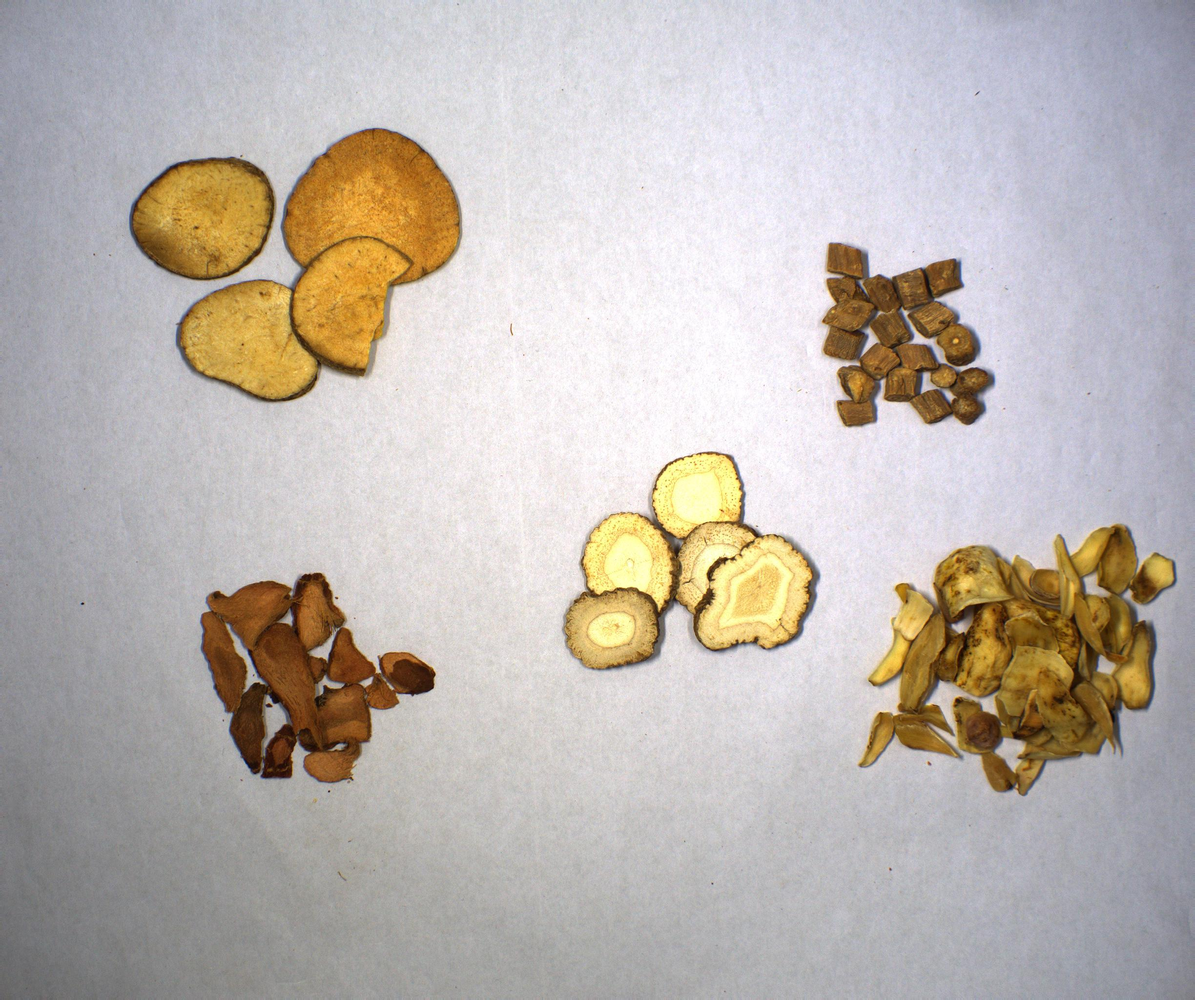baihe: (856, 511, 1186, 791)
baizhi: (565, 434, 818, 671)
gaoliangjiang: (175, 557, 448, 792)
niuxi: (801, 218, 1001, 460)
zexie: (125, 123, 483, 419)
